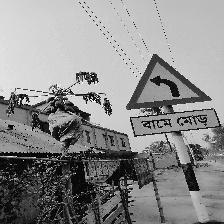Left-Turn: (126, 55, 220, 138)
